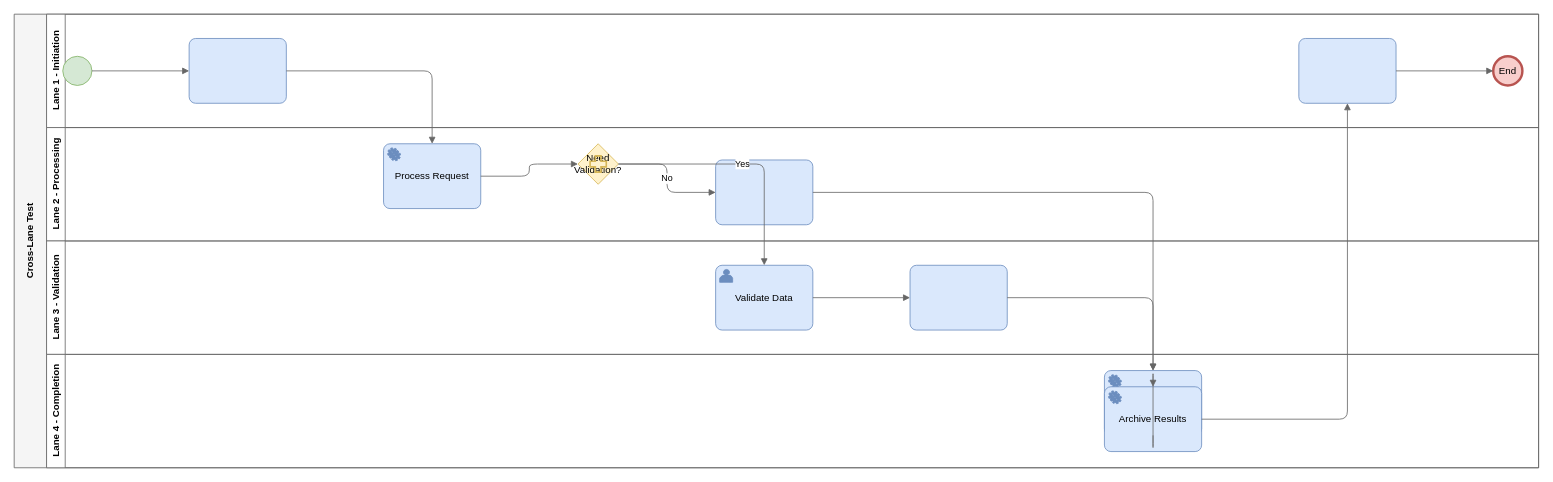
Some shapes in this 1553 by 482 pixel diagram are drawn without their labels. The shapes that lost their labels are listed below. From the top down, each one's centre as x and y in pixels, then its label:
[77,70]: Start
[237,70]: Initialize Request
[1347,70]: Receive Final Result
[764,192]: Skip to Complete
[958,297]: Confirm Validation
